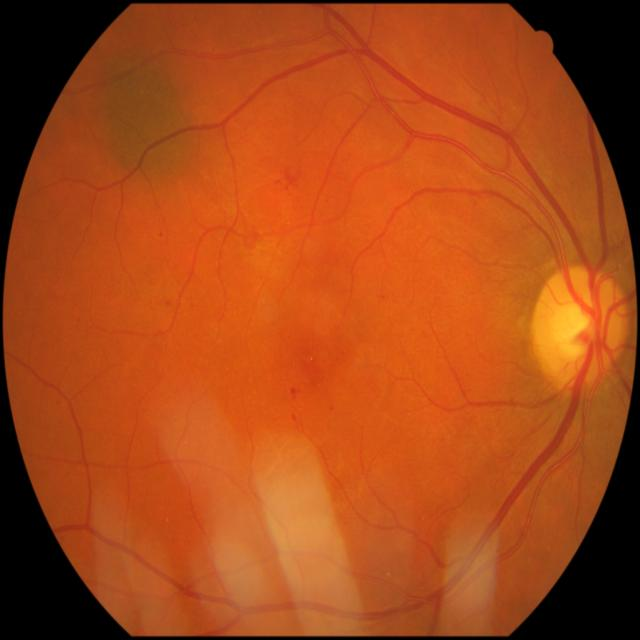OC: (553, 301, 592, 356)
OD: (530, 268, 627, 388)
